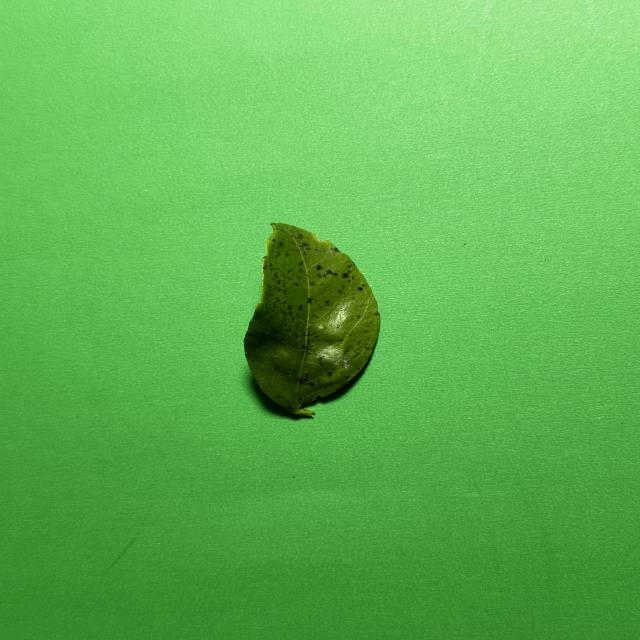sooty_mold: (244, 223, 380, 416)
